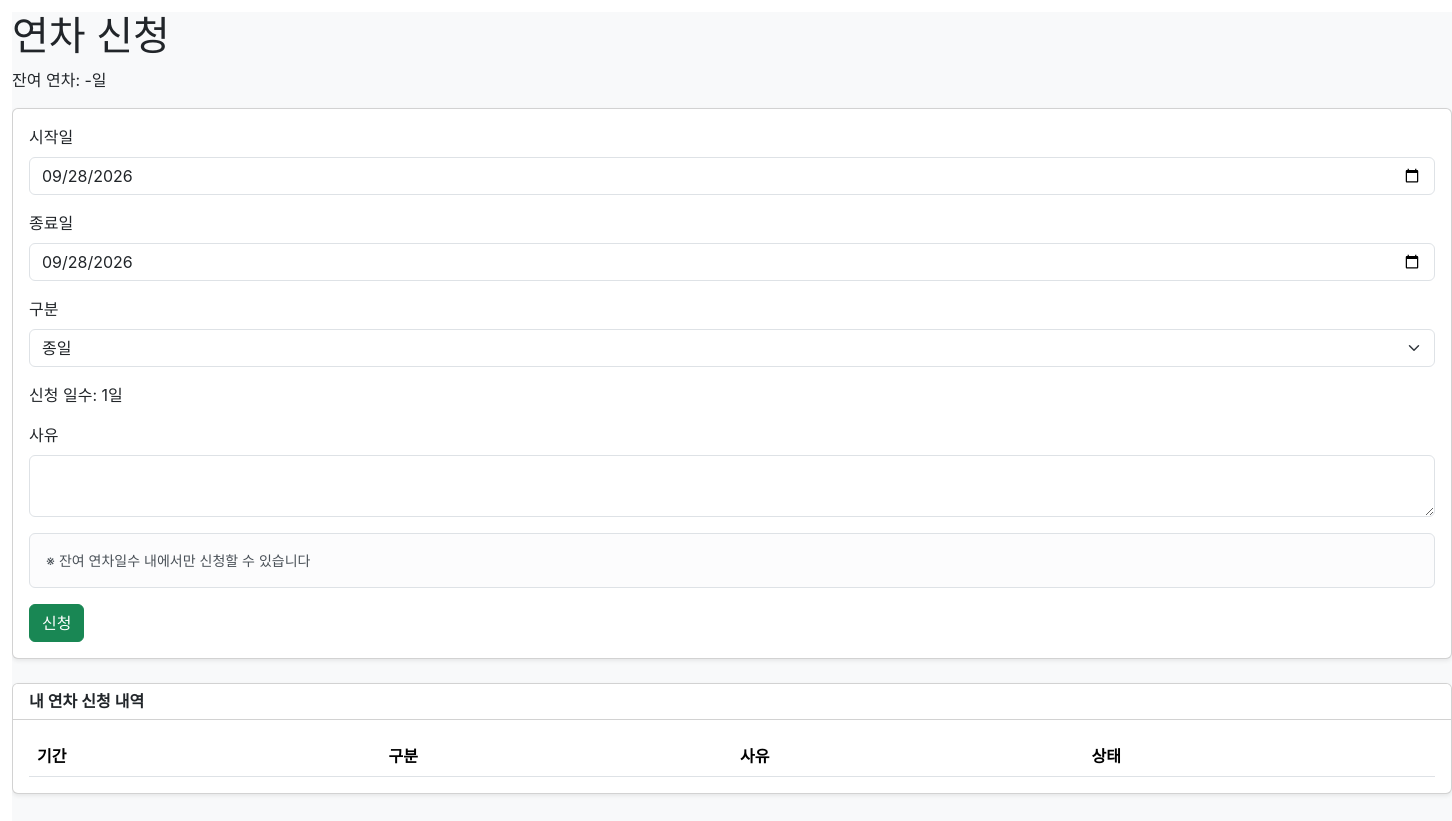
Test case: LeaveRequestsPage › 잔여 연차 초과로 400 응답을 받으면 에러 메시지를 표시한다
Type "2026-09-07" into the date field below "시작일" at (732, 176), box [29, 157, 1435, 195]
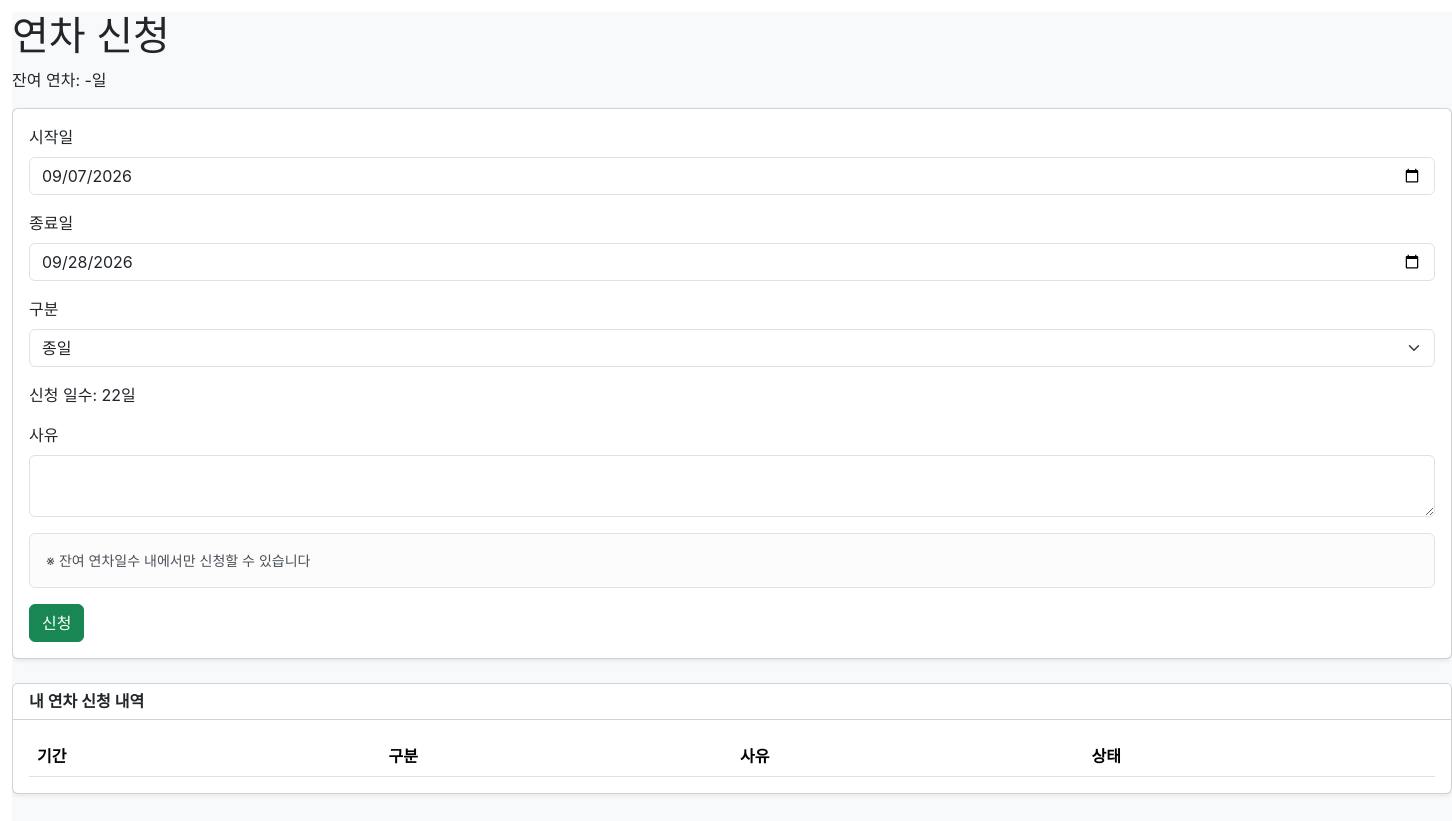
Type "2026-09-08" into the date field below "종료일" at (732, 262), box [29, 243, 1435, 281]
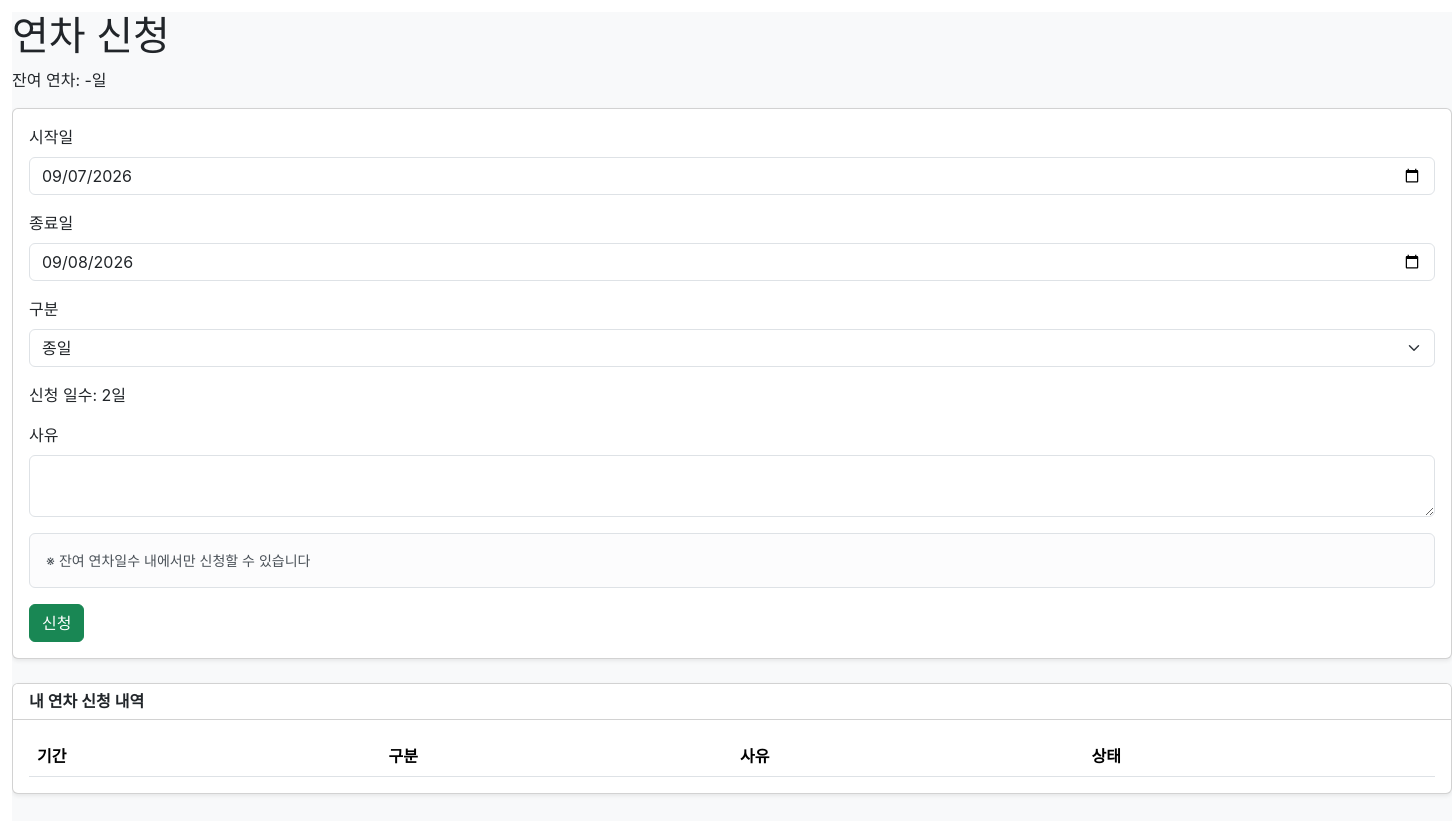
Type "INSUFFICIENT test" into the text box at (732, 486), box [29, 455, 1435, 517]
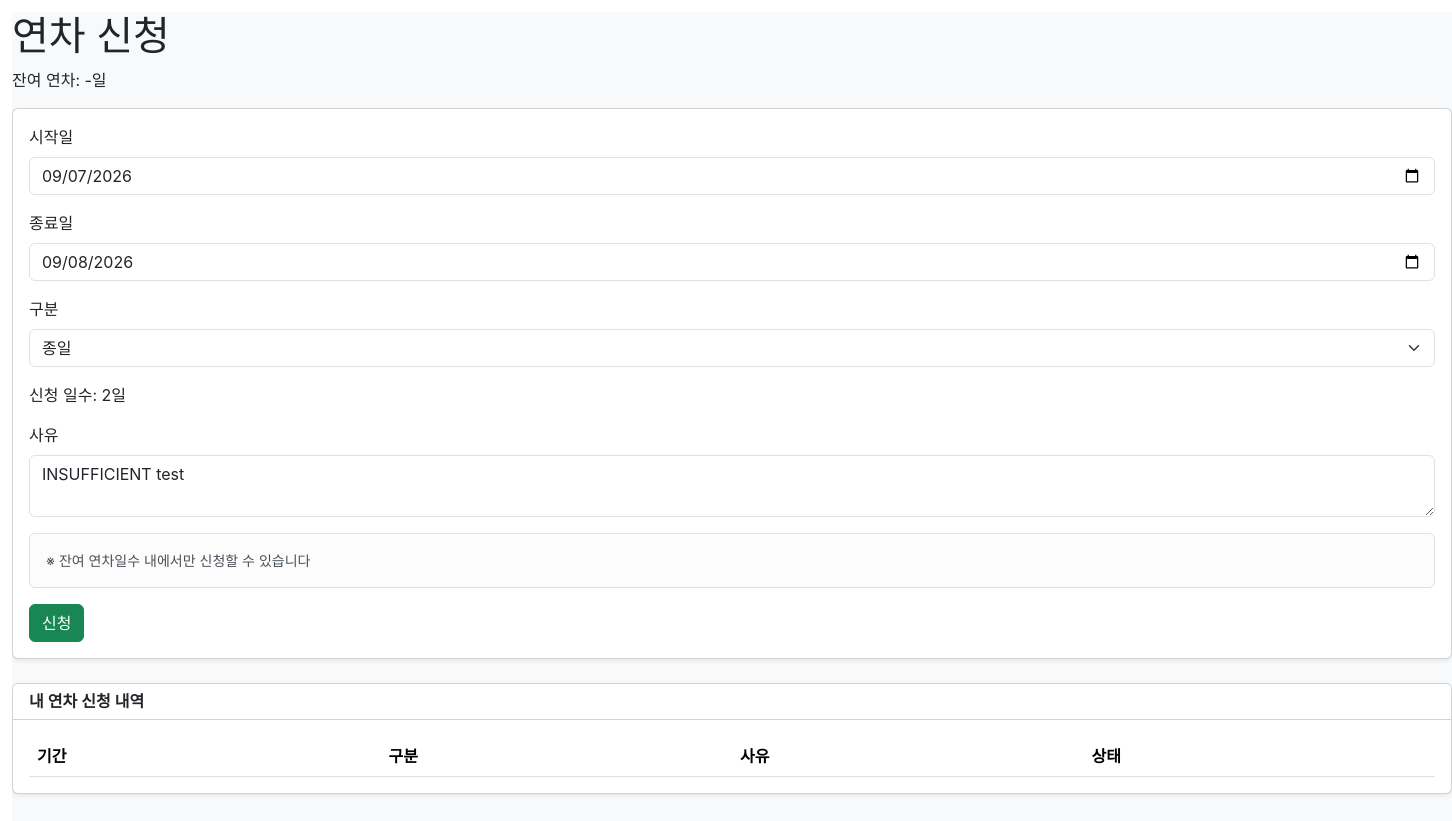
Click the button "신청" at (57, 623), box [29, 604, 84, 642]
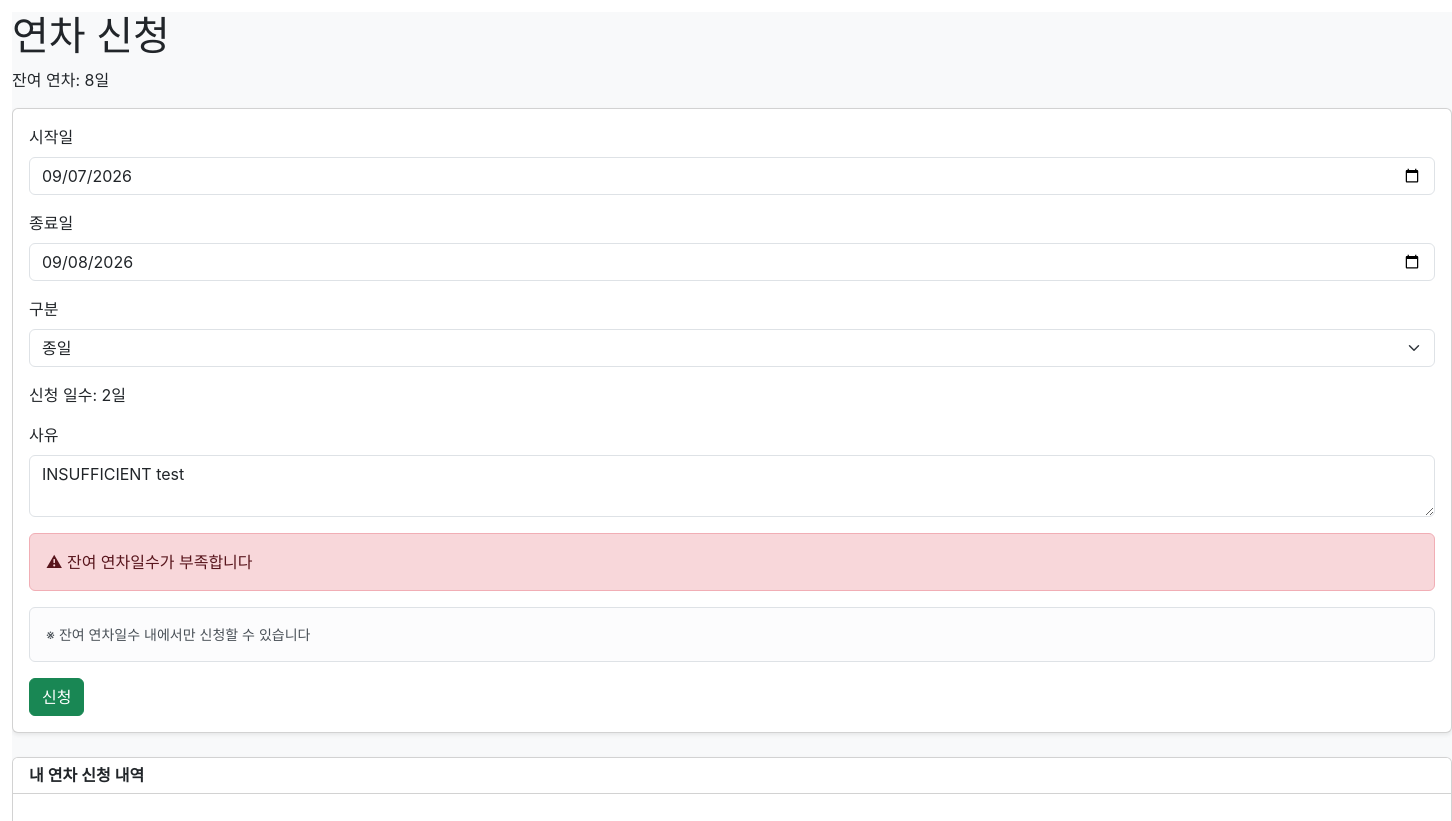
Expected: the message shows "잔여 연차일수가 부족합니다", [67, 552, 252, 572]
